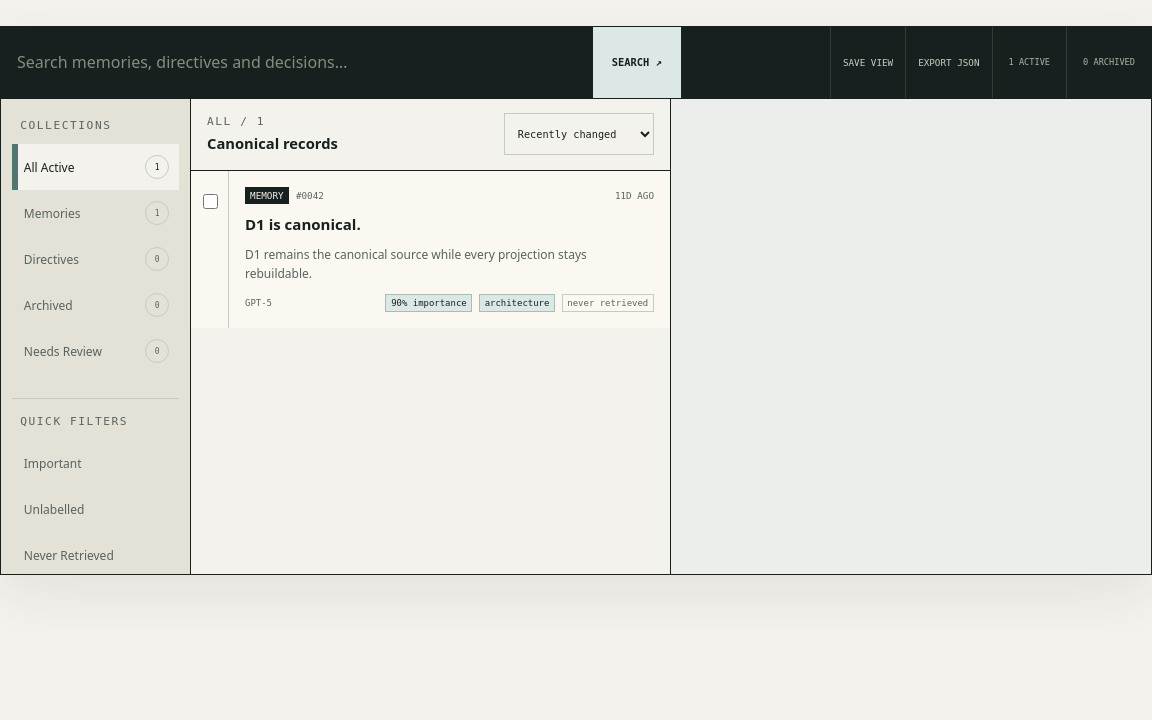
Test: MemoryLibrary › opens provenance and archives a selected record without leaving the Library
Step 1. Click the button "D1 is canonical" → (450, 249), box [229,171,670,327]
(page scrolled)
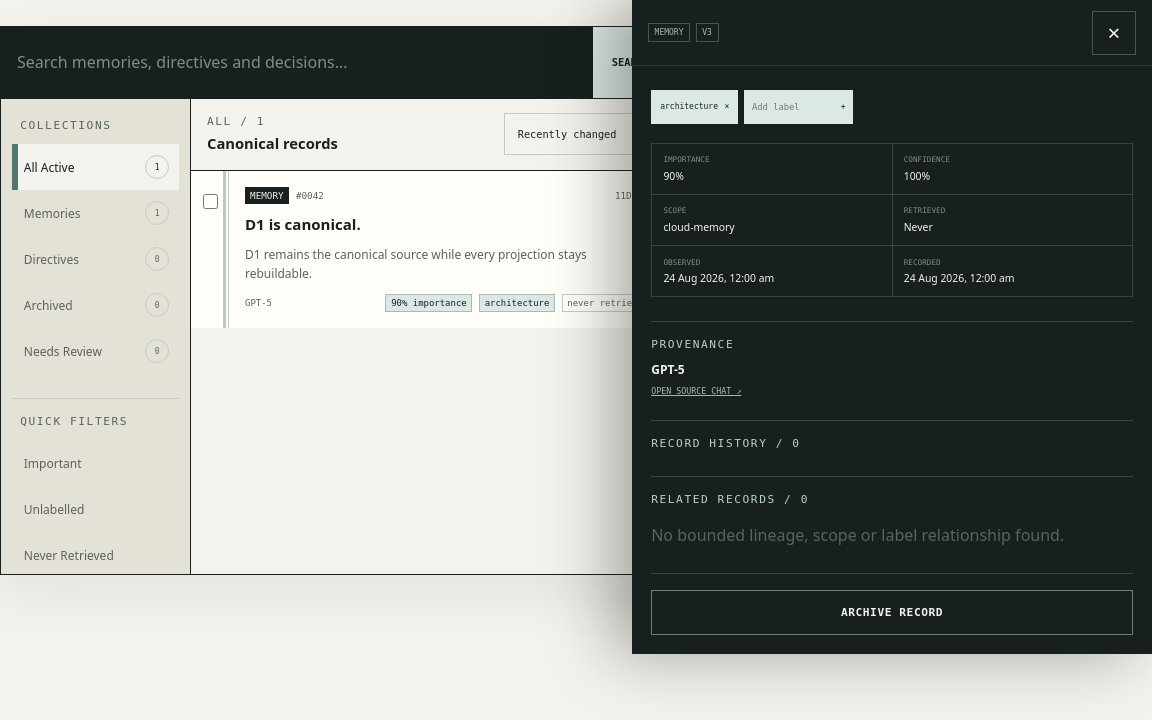
Now the link "Open source chat ↗" is shown, box [651,386,741,396]
Step 2. Click the button "Archive record" → (892, 612), box [651,590,1133,635]
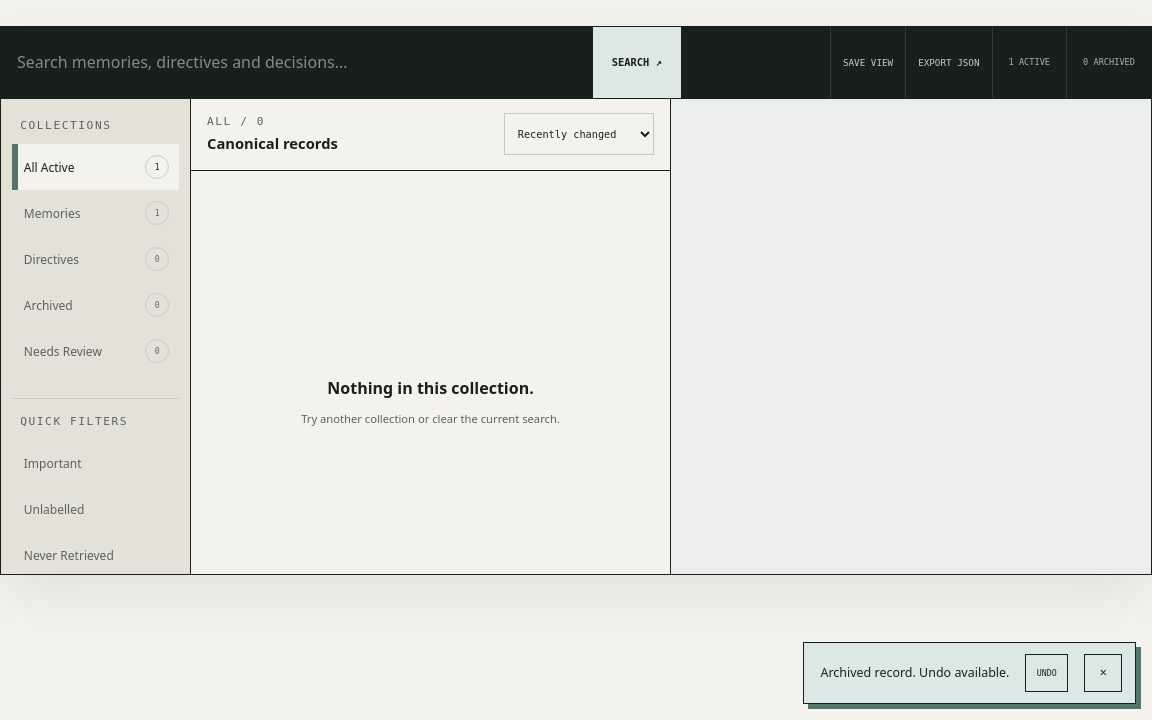
Now the button "D1 is canonical" is gone
Now the message shows "Archived", box [820,664,1009,681]
